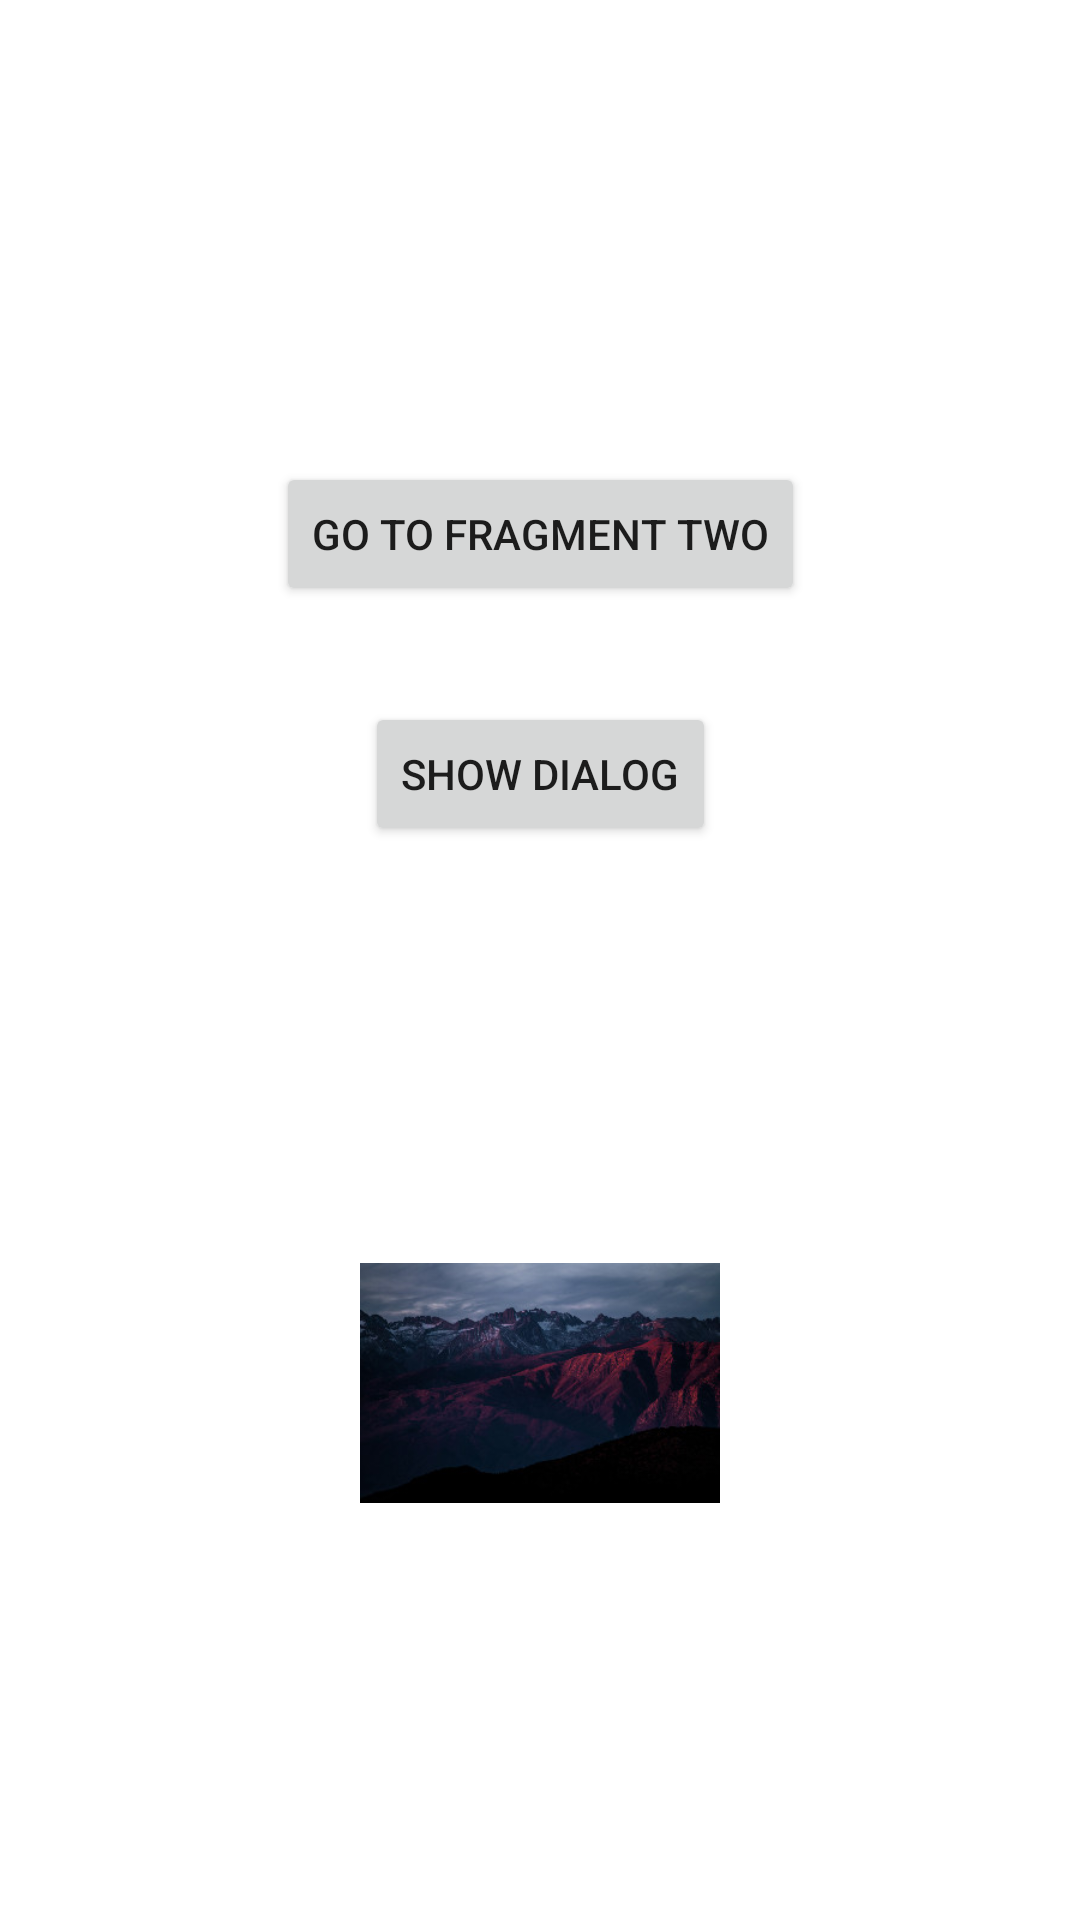

Named icons in this screenshot (1080×1920) and their centers, point (x, y):
mountain: point (540, 1383)
